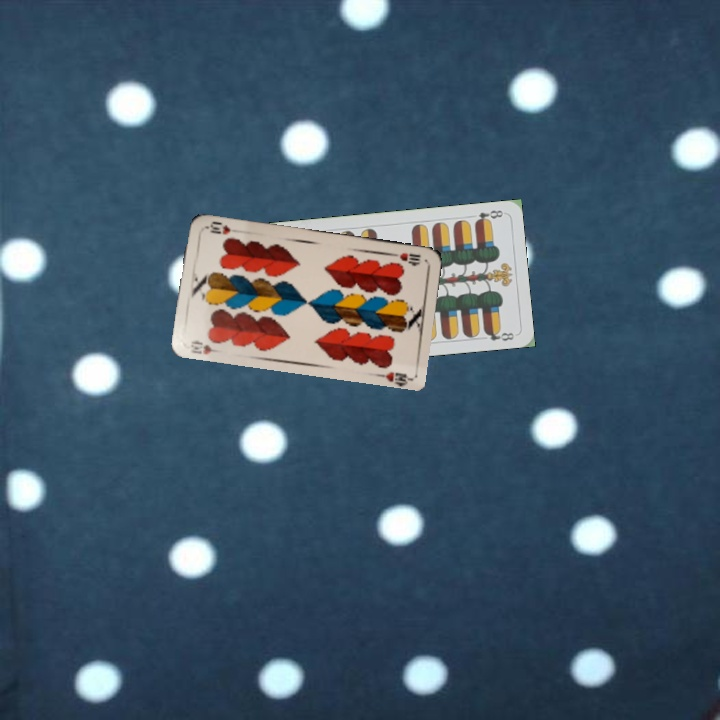E8: (471, 206, 506, 226)
H10: (187, 336, 224, 357), (387, 249, 423, 266)
